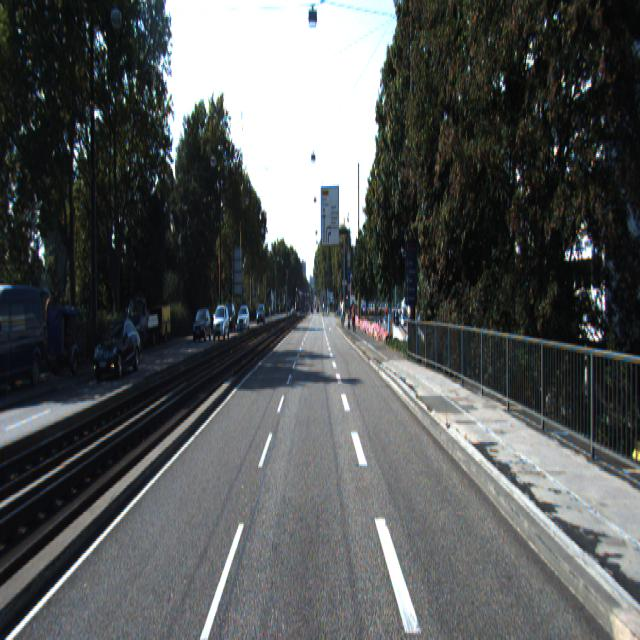Car: (0, 277, 49, 396), (93, 316, 144, 382), (48, 303, 86, 378), (123, 292, 159, 350), (191, 310, 214, 344), (155, 305, 171, 344), (213, 306, 230, 342)
